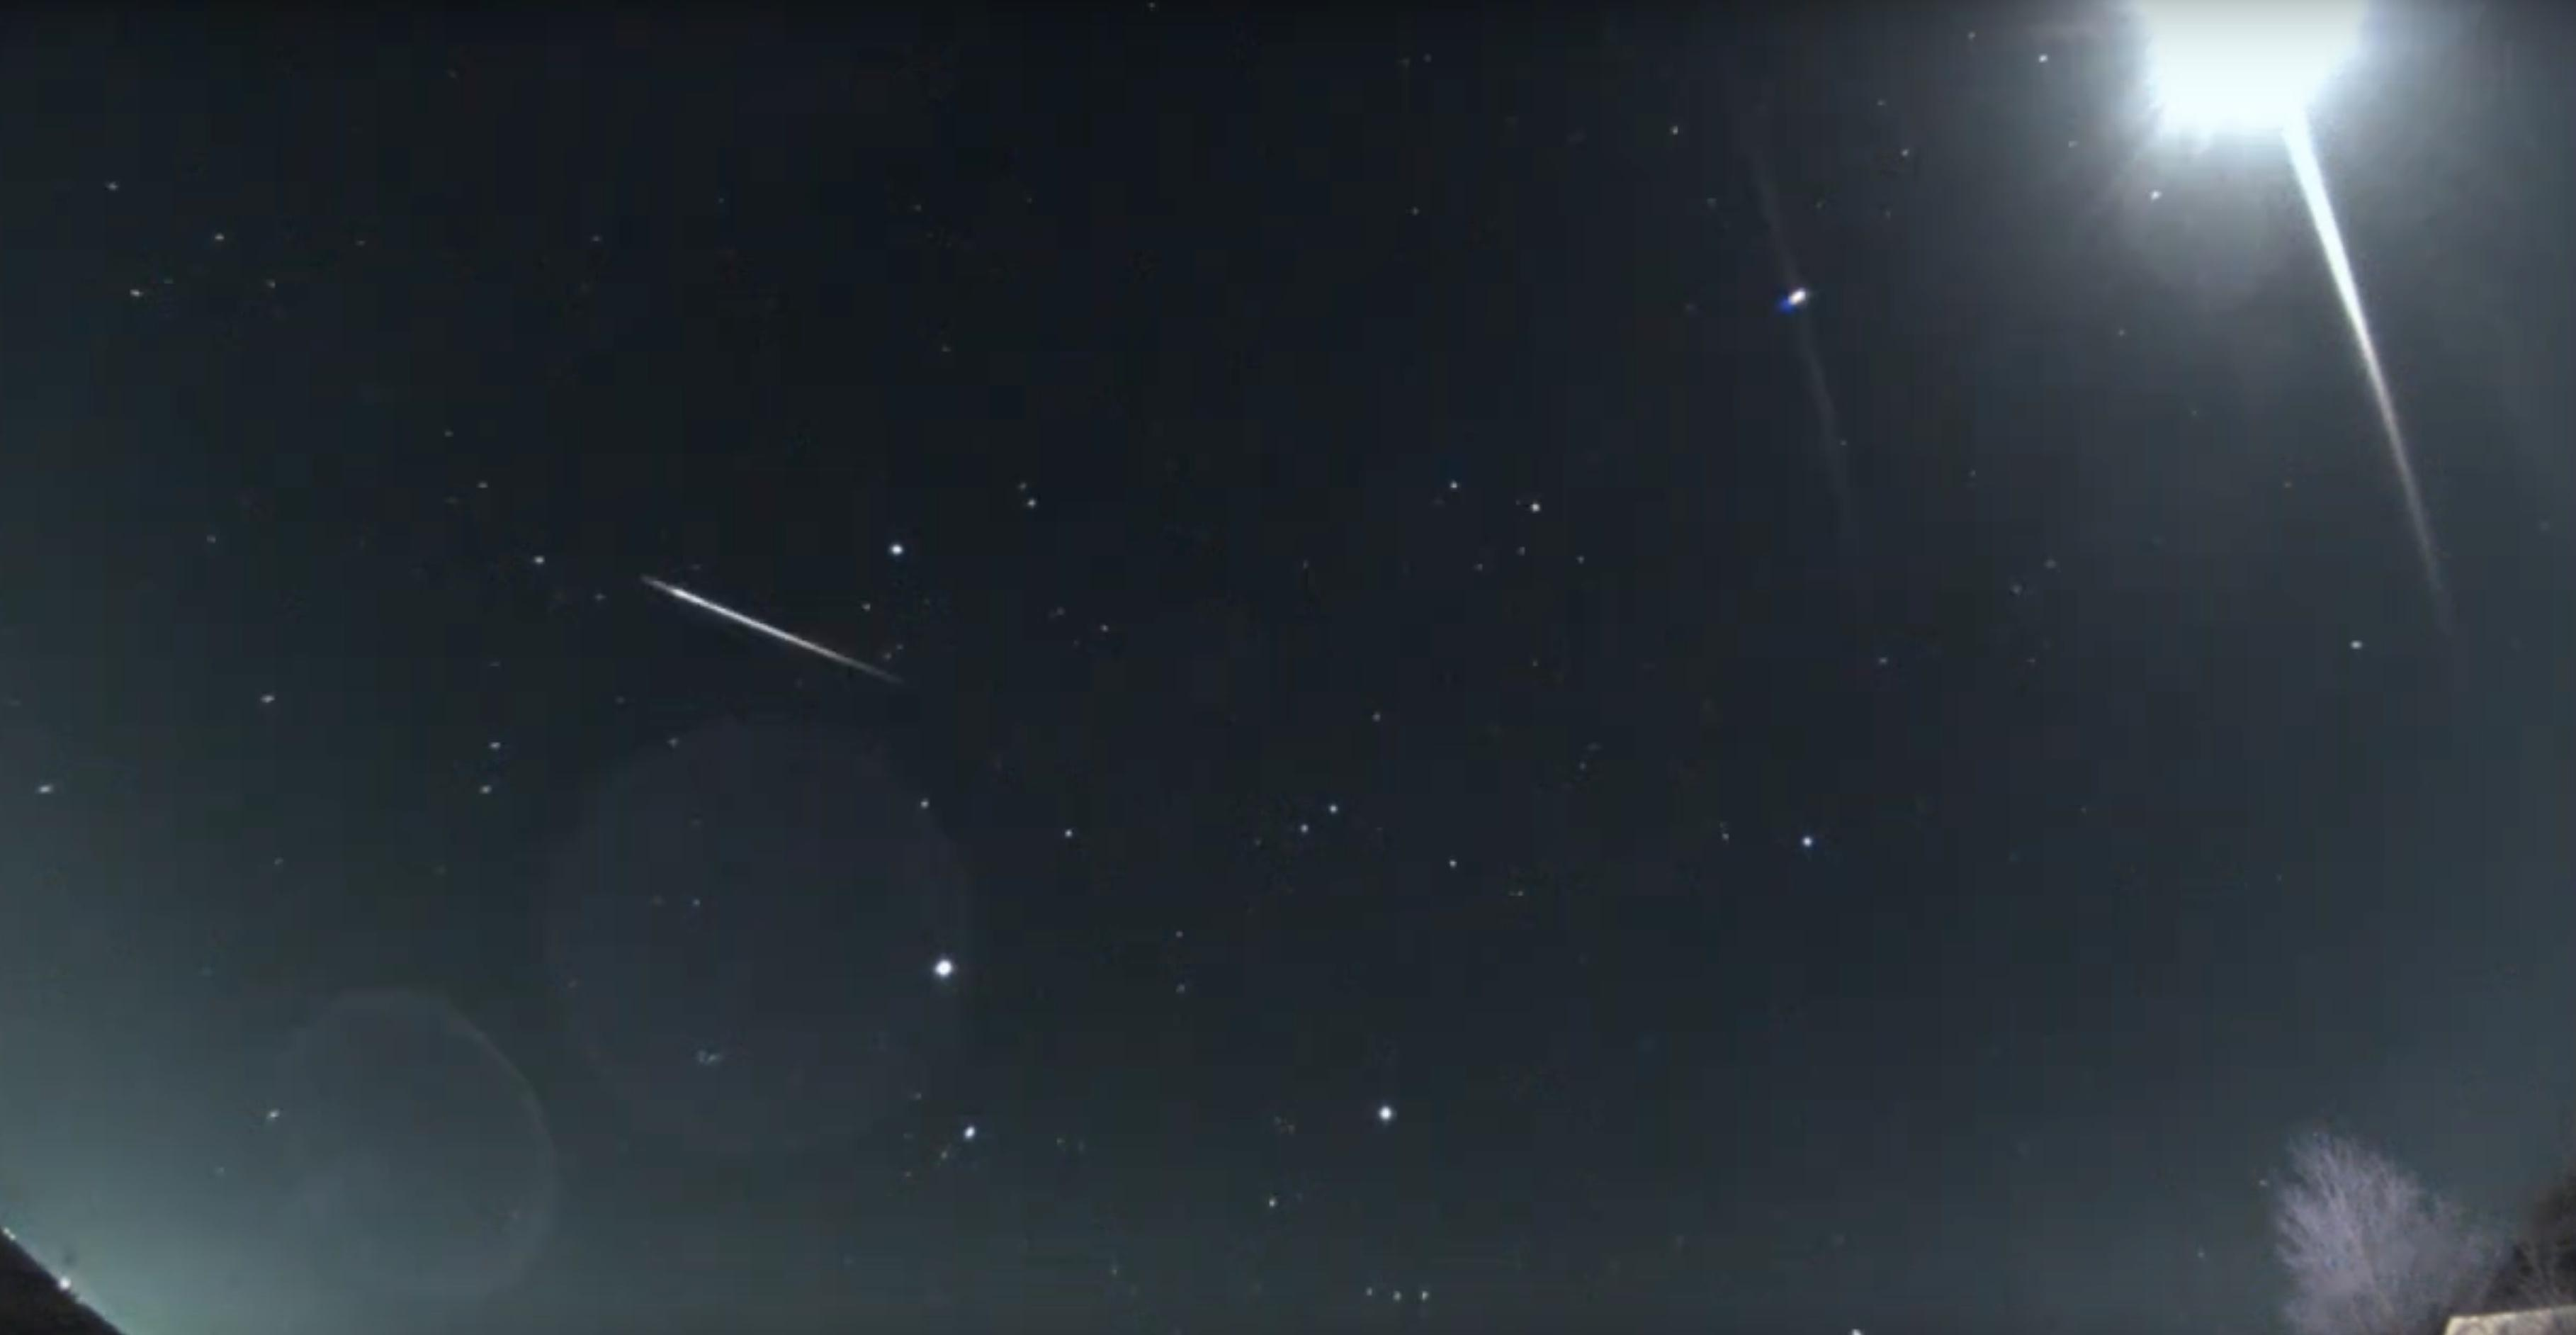meteorite: (614, 569, 915, 702)
